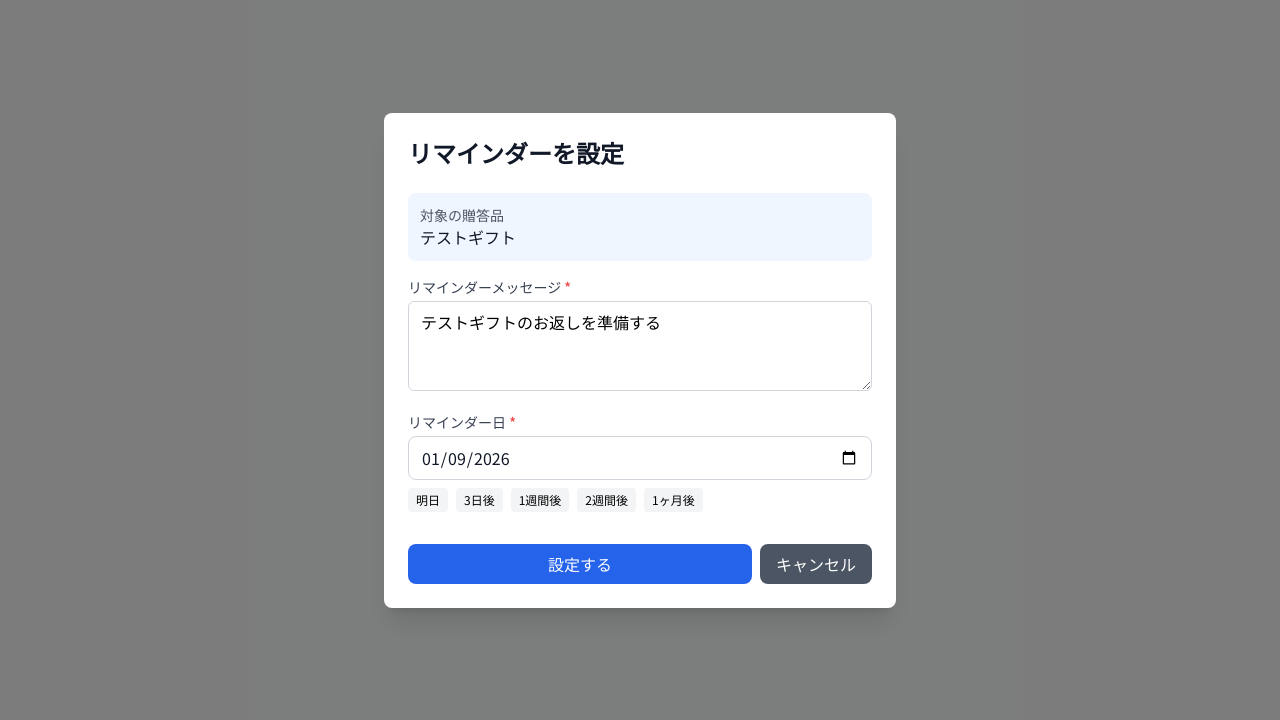
Scenario: ReminderForm › メッセージが未入力の場合はエラーを表示
メッセージをクリア
Clear the text box with placeholder "お返しを準備する、連絡するなど" at (640, 346), box left=408, top=300, right=872, bottom=390
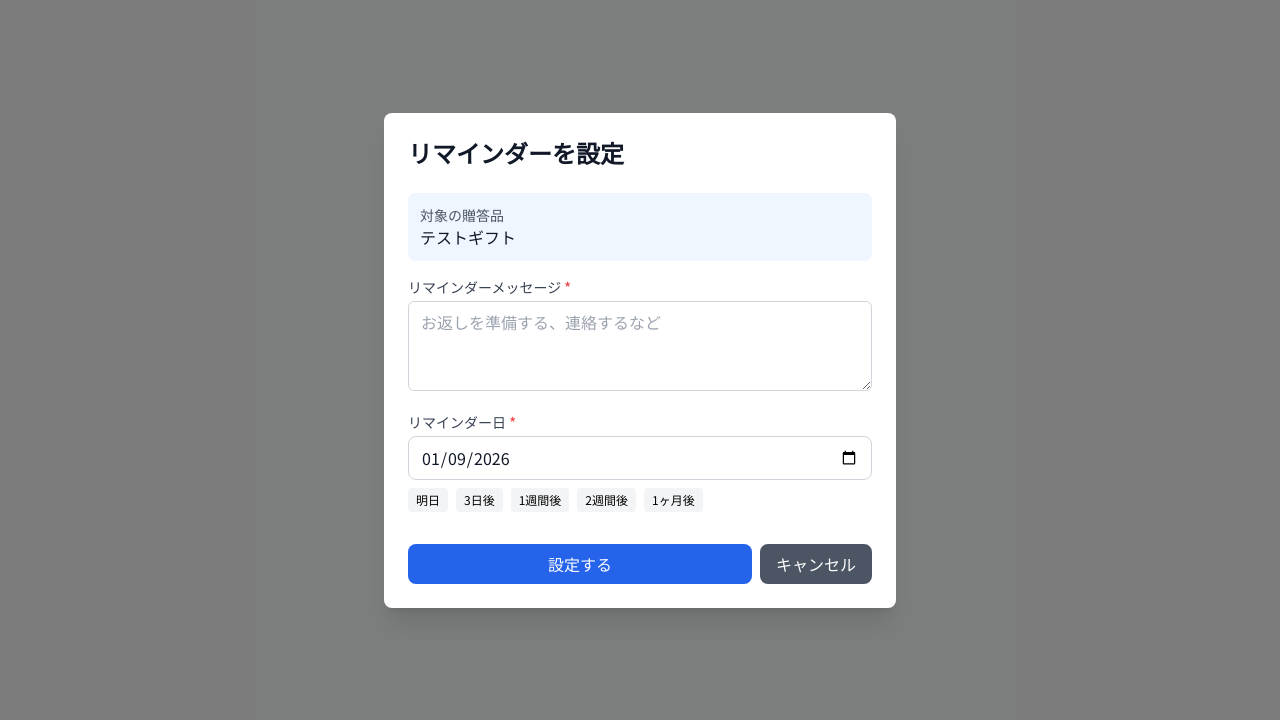
Click the button "設定する" at (580, 564), box left=408, top=544, right=752, bottom=584
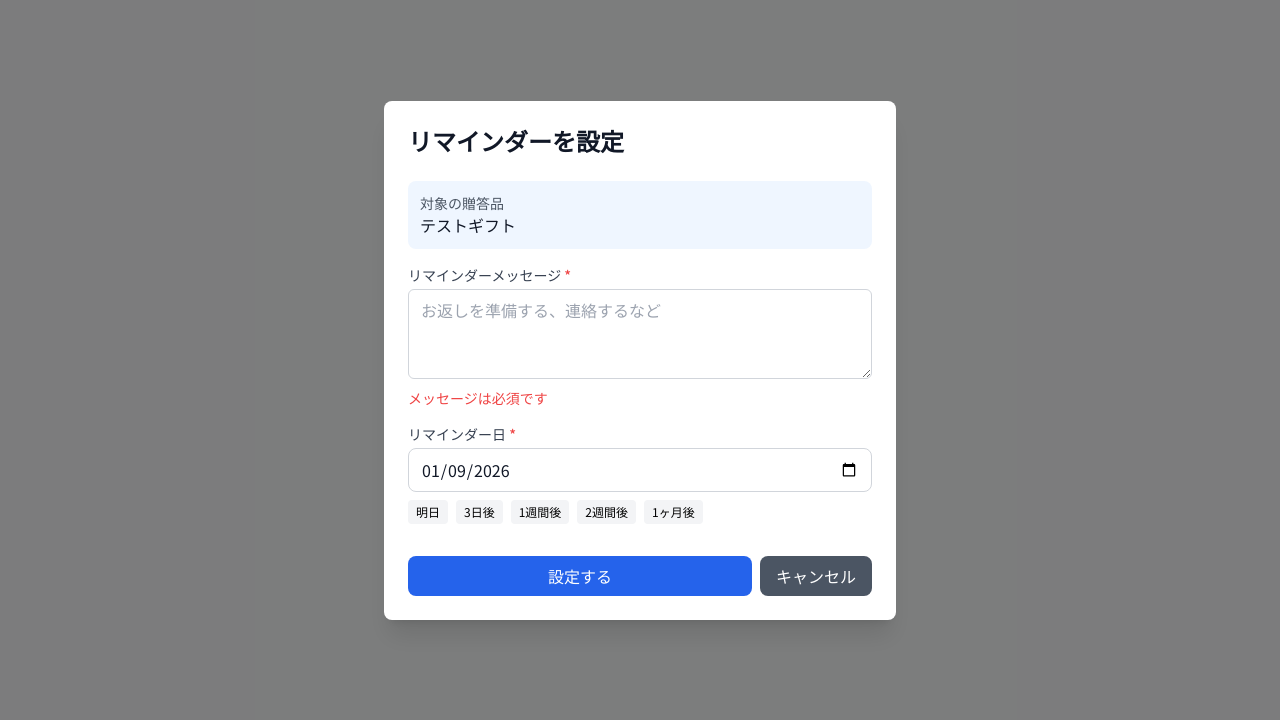
Expected: the text "メッセージは必須です" is shown, left=408, top=388, right=548, bottom=408
